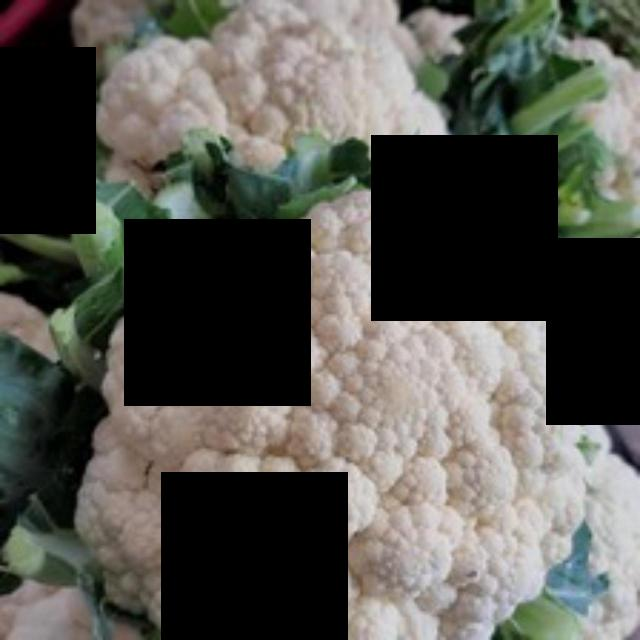cauliflower: (83, 194, 591, 637)
